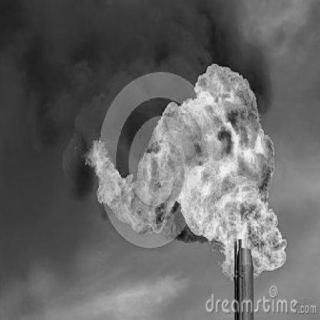Smoke: (1, 4, 100, 271), (102, 4, 220, 60), (228, 10, 276, 68)
